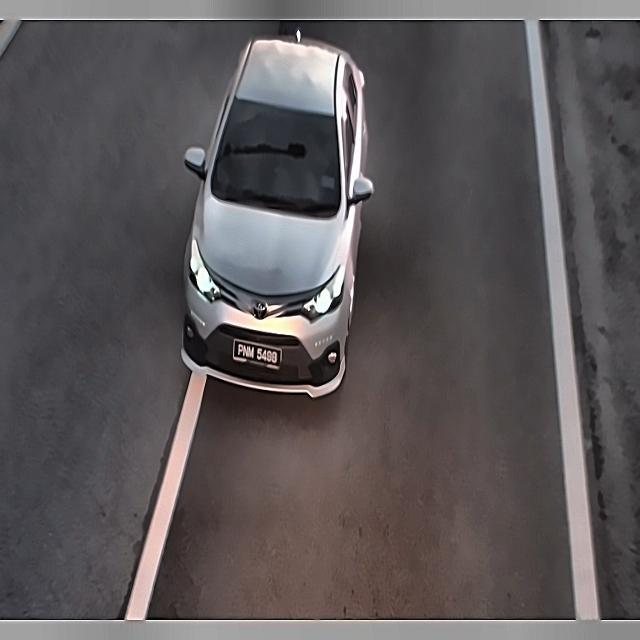car: (231, 334, 286, 377)
